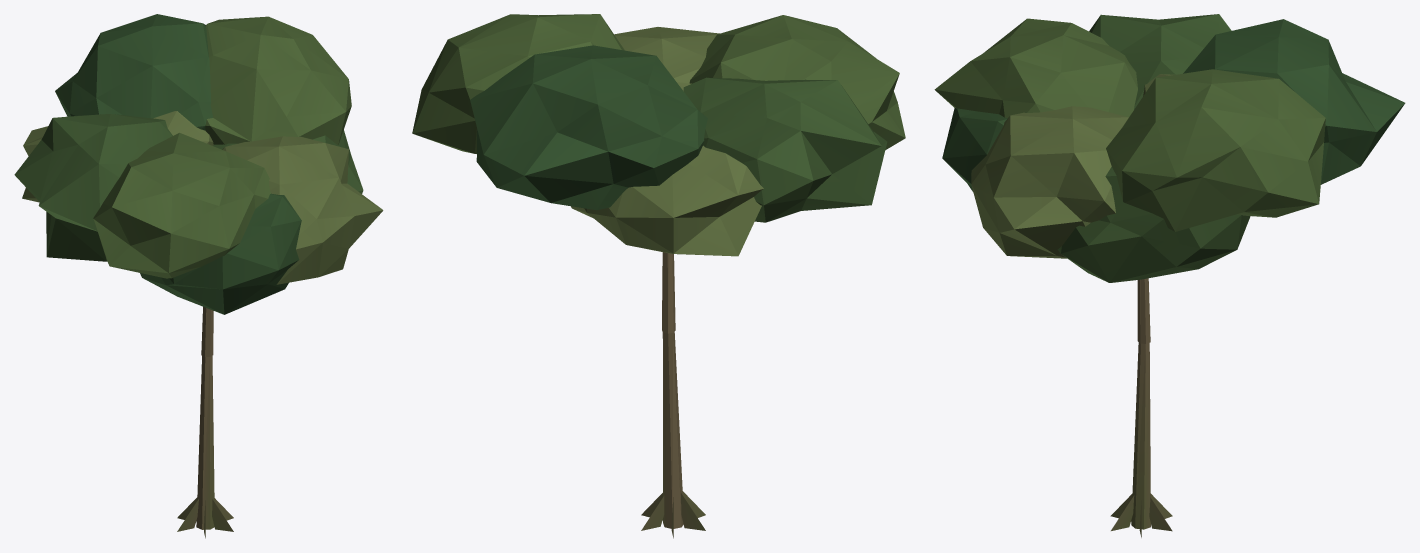
File: jungle-canopy.glb
3 renders of one model, left to right at view 1: azimuth 30°, elevation 25°; view 2: azimuth 150°, elevation 25°; view 3: azimuth 270°, elevation 25°, orthographic. The views are drawn at different scales.
Visible parts, largest first — view 1: Дерево тропического полога; view 2: Дерево тропического полога; view 3: Дерево тропического полога.
Part boxes in pixels (x1,y1,x2,y2): Дерево тропического полога: (14, 14, 383, 538); Дерево тропического полога: (412, 14, 905, 538); Дерево тропического полога: (934, 14, 1405, 537).
Size of the model in its own units: 22.43 by 28.7 by 24.86.
